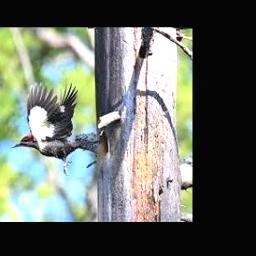Woodpecker: (10, 82, 102, 175)
